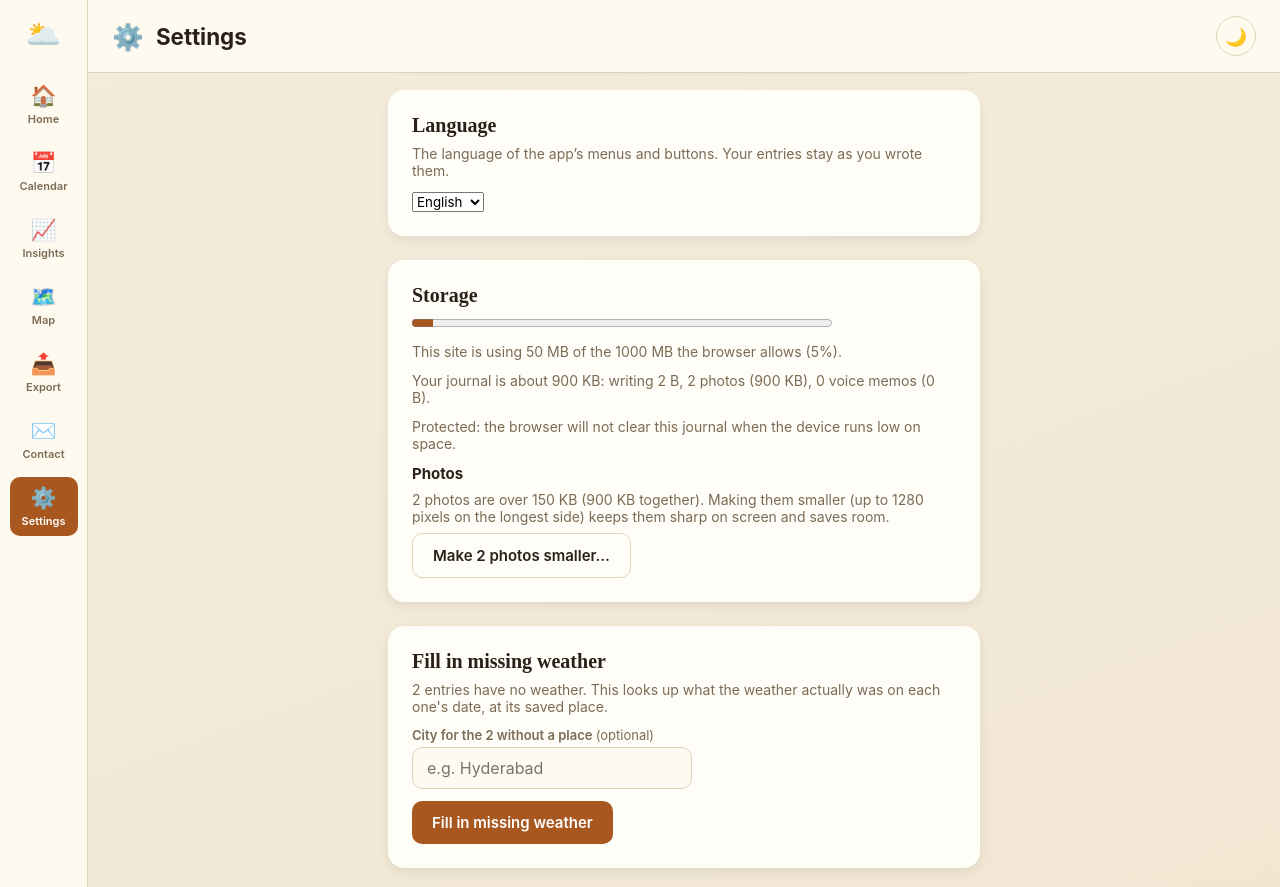
Storage settings › can be stopped part-way, keeping what was finished
(page scrolled)
Click the button "Make 2 photos smaller…" at (521, 556), box [412,533,631,578]
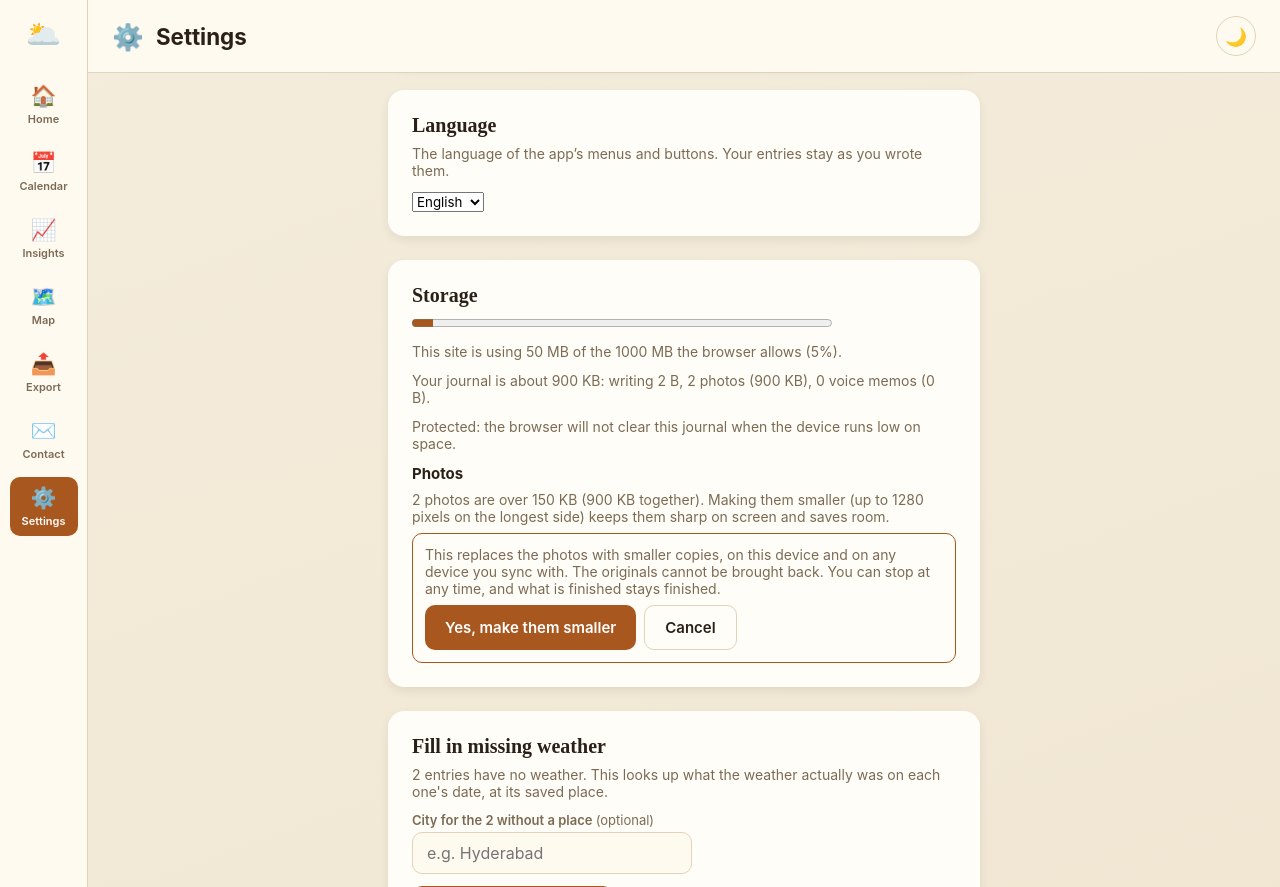
Click the button "Yes, make them smaller" at (531, 628), box [425,605,636,650]
(page scrolled)
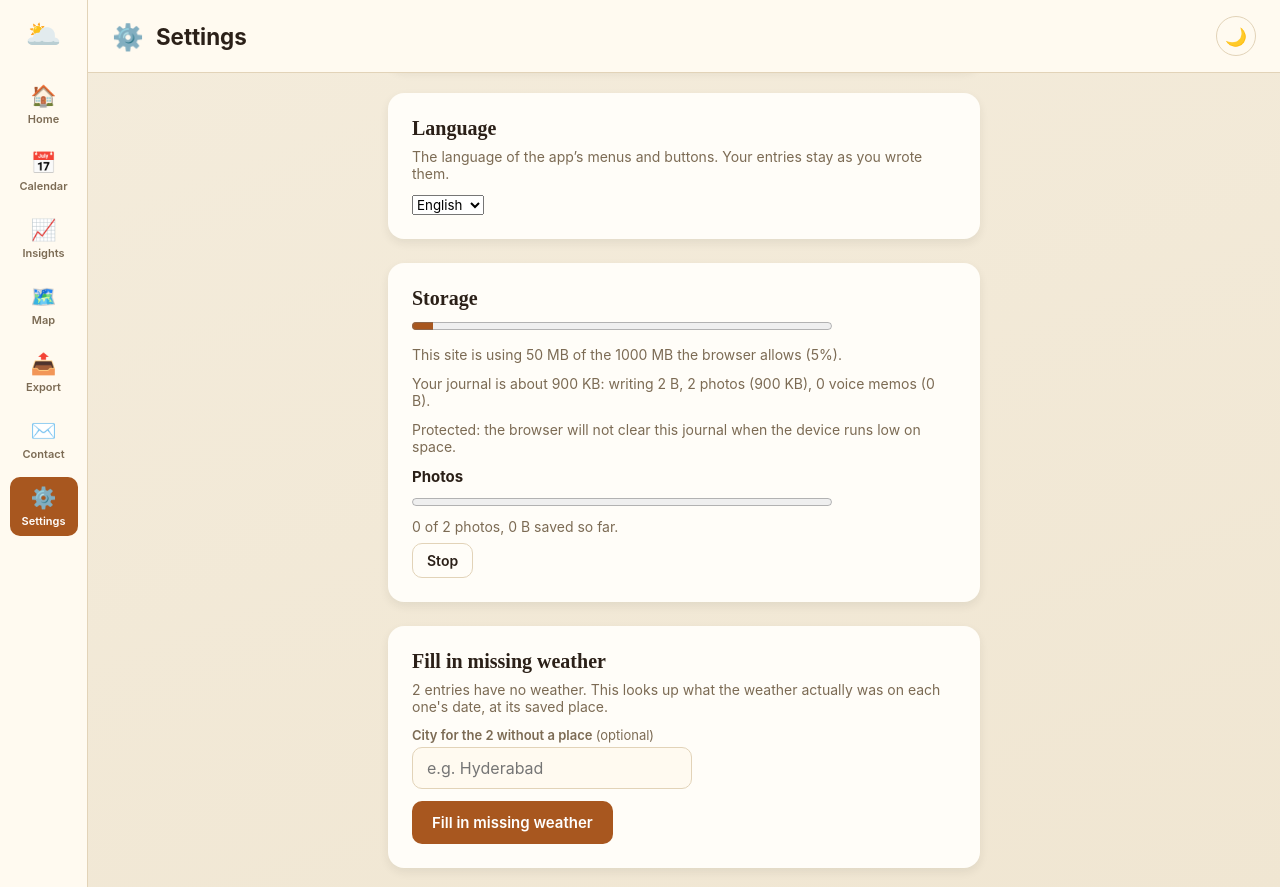
Check: the progress indicator named "Making photos smaller" is shown, box [412,494,832,510]
Click the button "Stop" at (443, 560), box [412,543,473,578]
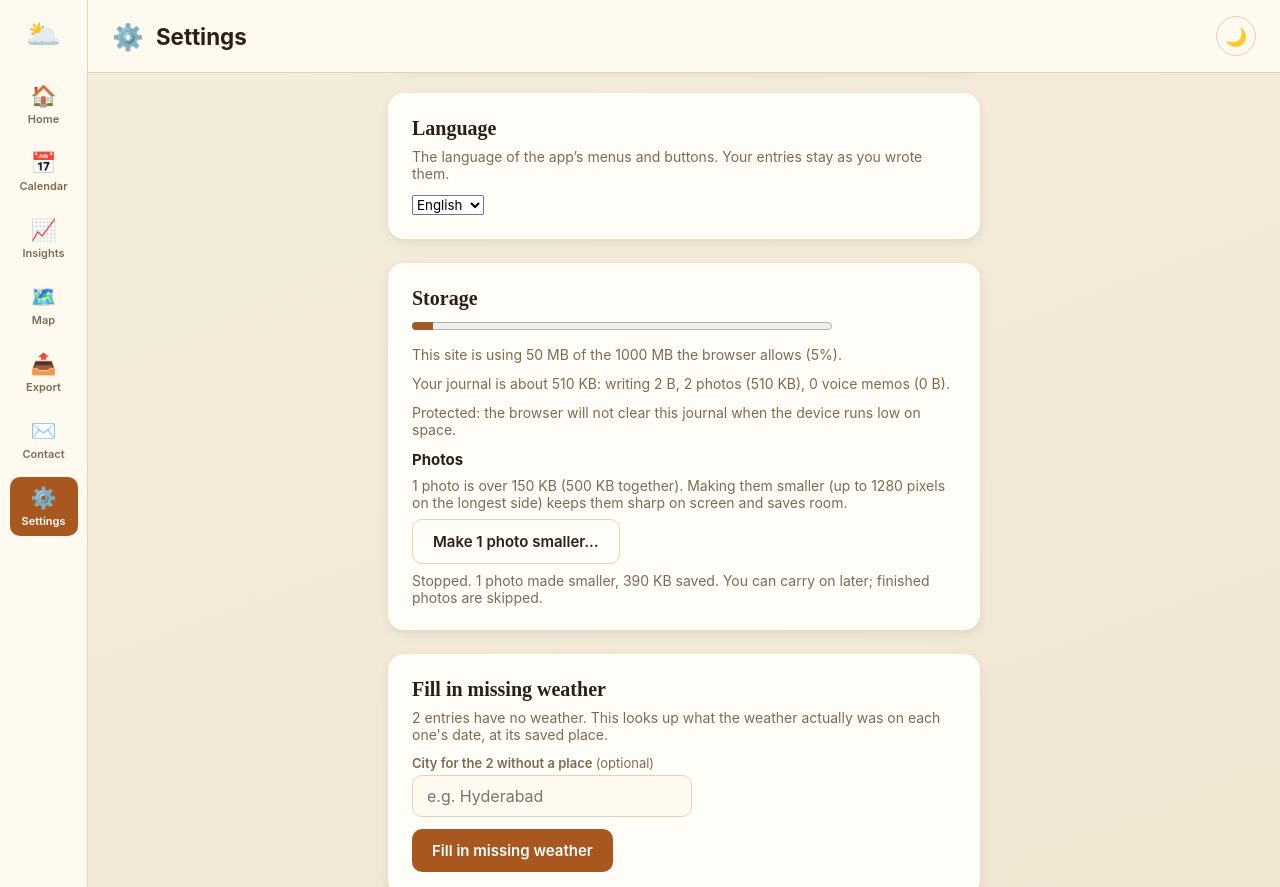
Check: the text "Stopped. 1 photo made smaller" is shown, box [412,572,956,606]
Check: the text "carry on later" is shown, box [412,572,930,606]
Check: the button "Make 1 photo smaller…" is shown, box [412,519,620,564]
